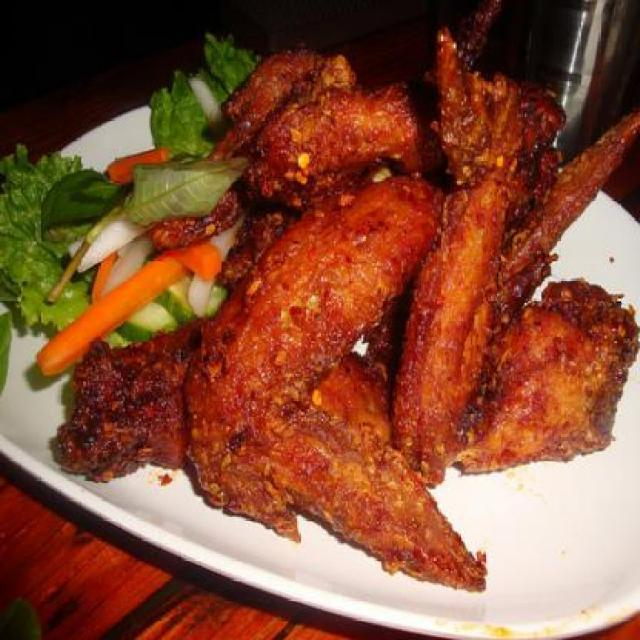Deep fried chicken wing: (208, 78, 634, 547)
